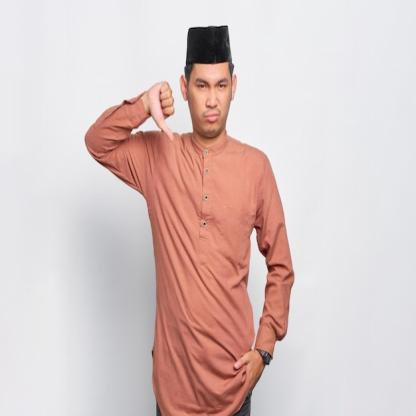thumb_down: (146, 74, 178, 144)
